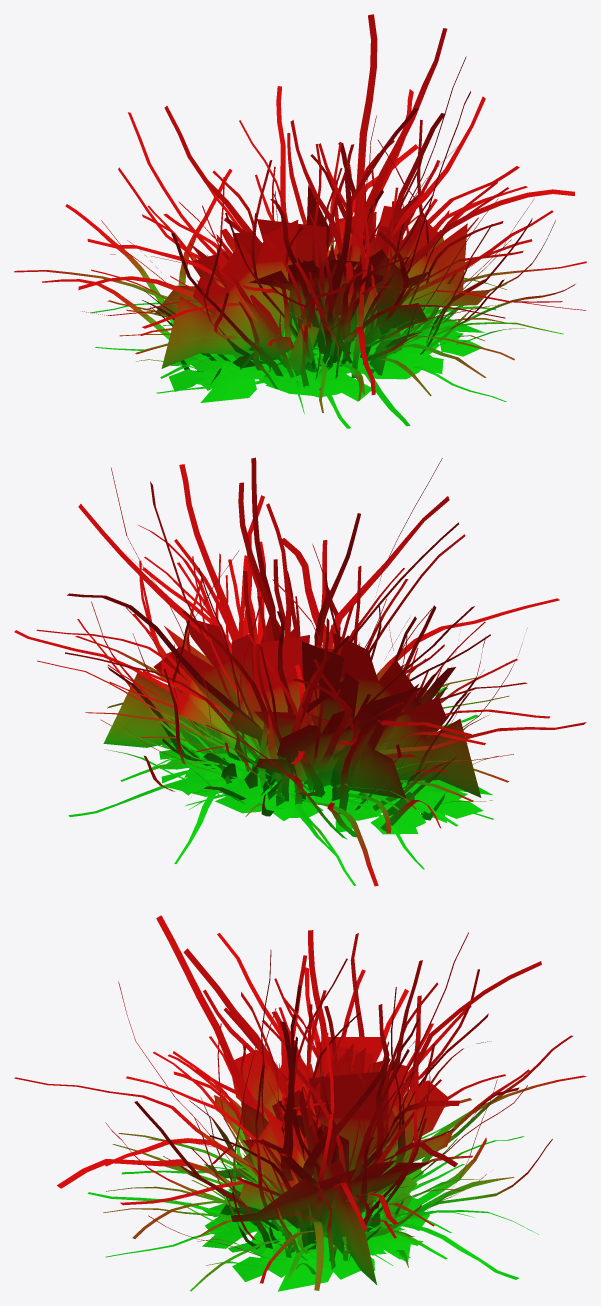
Rendered from Wild Grass_LOD2_Var1_vczndjqja.fbx.
3 renders of one model, top to bottom at view 1: azimuth 30°, elevation 25°; view 2: azimuth 150°, elevation 25°; view 3: azimuth 270°, elevation 25°, orthographic. The views are drawn at different scales.
Parts seen in each view (by area): view 1: _lhew_Var1_LOD2; view 2: _lhew_Var1_LOD2; view 3: _lhew_Var1_LOD2.
Part boxes in pixels (bbox=[...]): _lhew_Var1_LOD2: bbox=[14, 14, 586, 428]; _lhew_Var1_LOD2: bbox=[14, 457, 586, 886]; _lhew_Var1_LOD2: bbox=[14, 915, 586, 1291].
Size of the model in its own units: 158 by 90.21 by 149.
